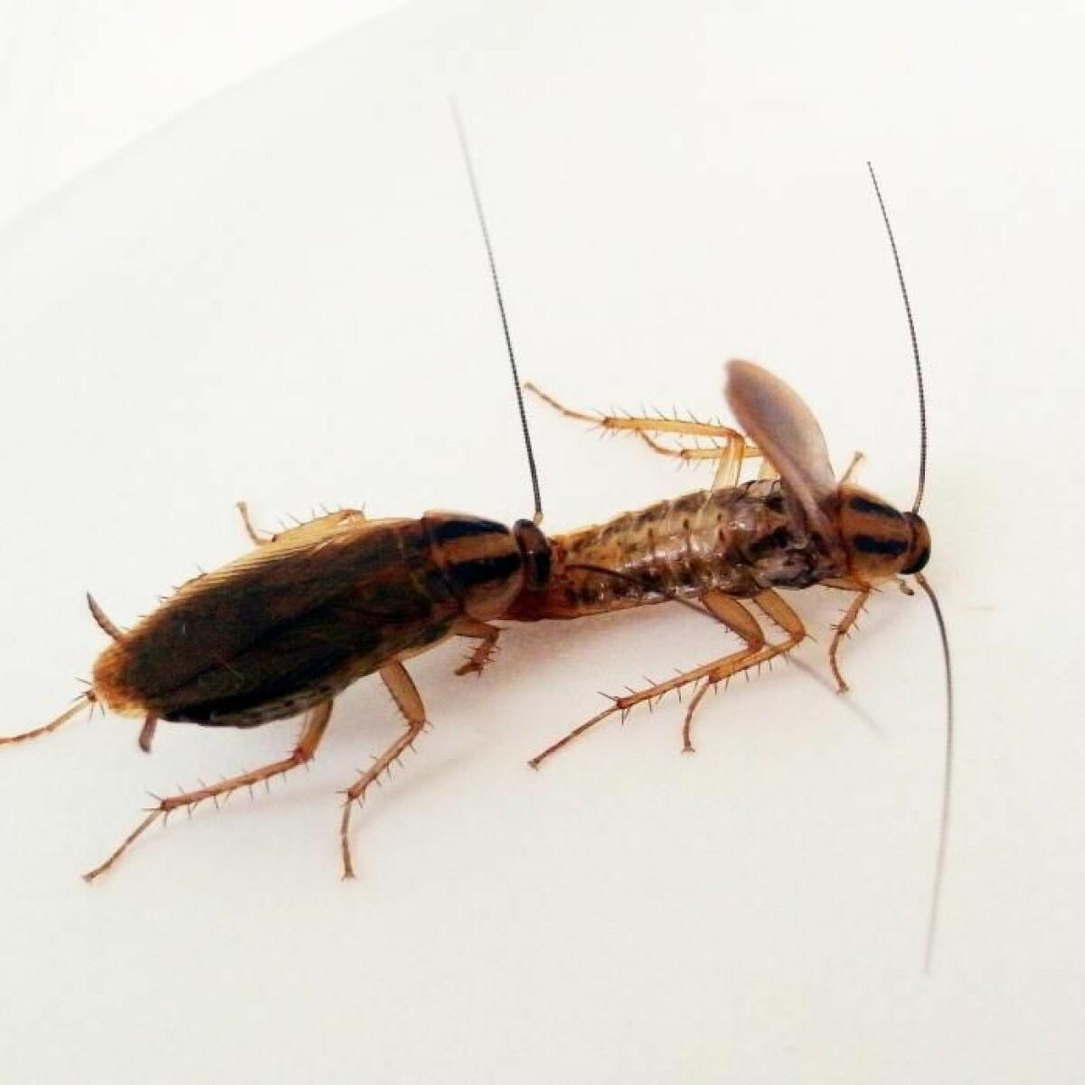cockroach: (0, 467, 580, 892), (483, 409, 938, 639)
